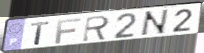2: (114, 12, 139, 40), (173, 8, 195, 34)
F: (54, 17, 83, 45)
N: (138, 8, 171, 37)
R: (81, 14, 112, 43)
T: (30, 20, 52, 46)
